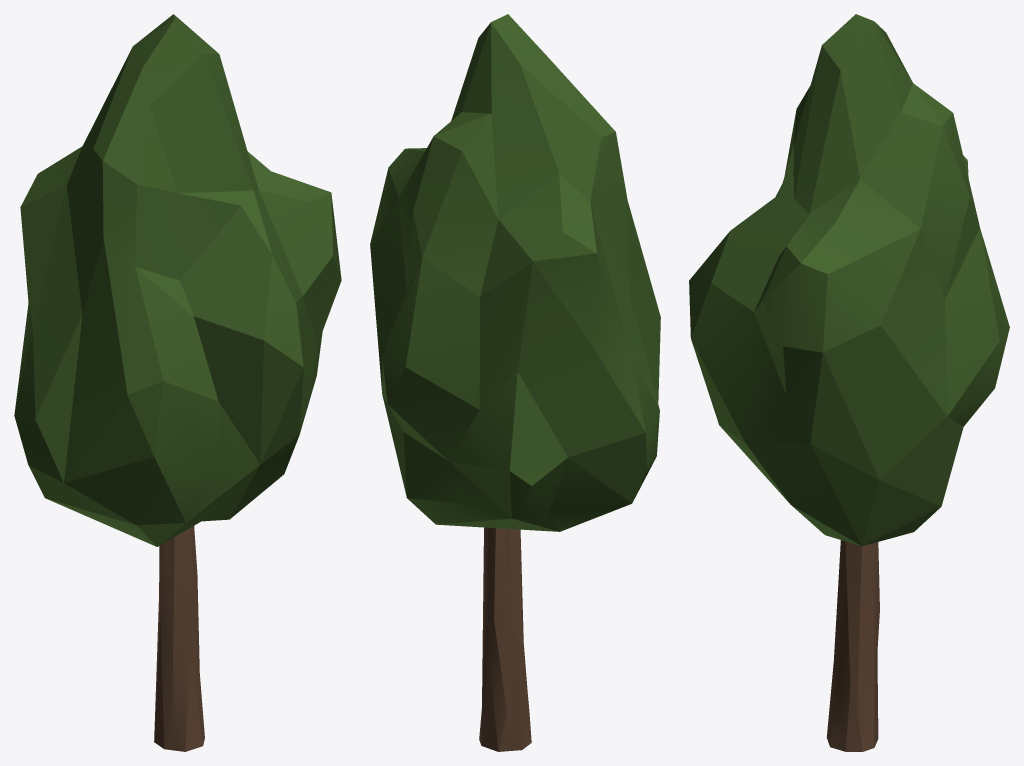
Rendered from BroadleafE.fbx.
3 renders of one model, left to right at view 1: azimuth 30°, elevation 25°; view 2: azimuth 150°, elevation 25°; view 3: azimuth 270°, elevation 25°, orthographic.
Parts seen in each view (by area): view 1: BroadleafE; view 2: BroadleafE; view 3: BroadleafE.
Boxes of the visible parts, x1,y1,x2,y2 form: BroadleafE: [14, 14, 341, 751]; BroadleafE: [370, 14, 660, 751]; BroadleafE: [689, 14, 1009, 751].
Bounding box in the file's own units: 388 × 927 × 372.
